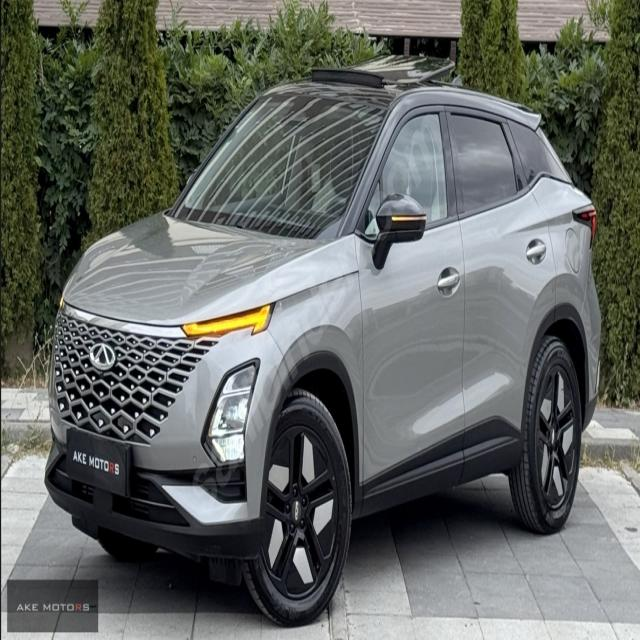cherry: (89, 340, 118, 373)
